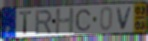0: (99, 5, 114, 33)
C: (74, 8, 93, 32)
H: (54, 6, 75, 36)
R: (35, 9, 53, 36)
T: (18, 10, 33, 35)
V: (115, 6, 134, 31)
